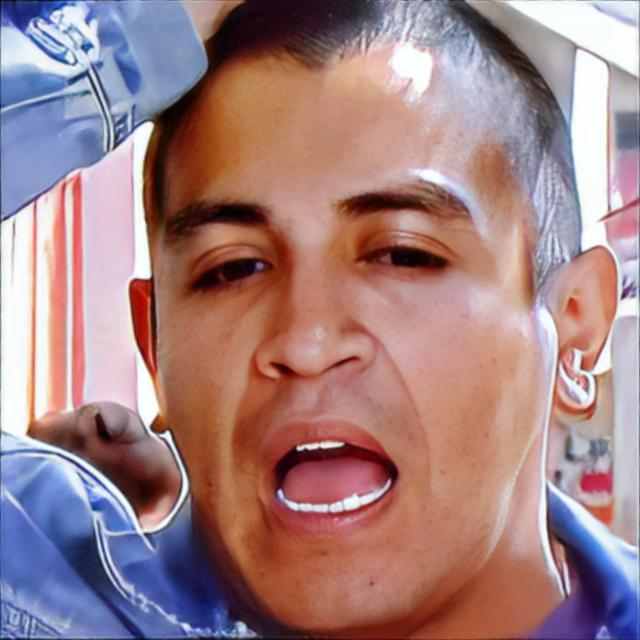anger: (152, 38, 548, 626)
